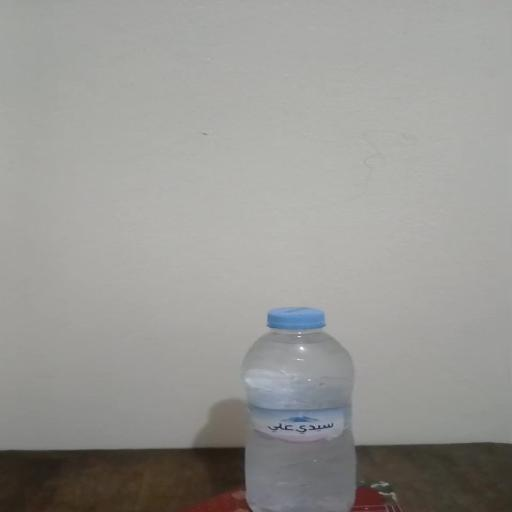bouteille conformite: (266, 298, 358, 512)
